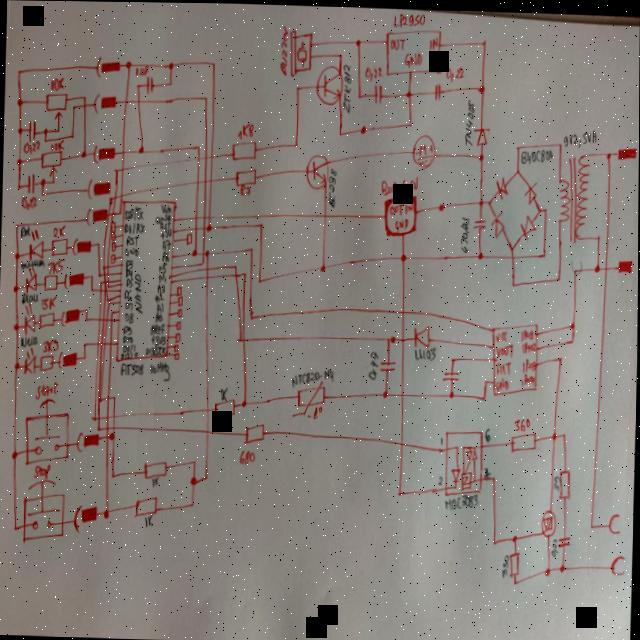capacitor: (24, 168, 35, 194), (141, 74, 156, 92), (378, 355, 395, 370), (440, 367, 459, 379), (26, 117, 35, 139), (372, 80, 381, 102), (556, 532, 570, 546), (432, 79, 441, 99), (472, 216, 485, 227)
crossover: (202, 424, 209, 433), (601, 261, 608, 269), (509, 250, 515, 259), (203, 403, 209, 411), (399, 388, 405, 396), (191, 223, 197, 231), (122, 95, 128, 103), (134, 95, 140, 103), (98, 338, 103, 346), (119, 146, 124, 154), (398, 437, 403, 445), (195, 152, 200, 160), (201, 175, 206, 183), (192, 212, 197, 220), (206, 211, 211, 219), (203, 272, 209, 278), (400, 305, 404, 313), (194, 176, 198, 184), (202, 151, 206, 159), (209, 151, 213, 159), (207, 174, 211, 182), (201, 211, 205, 219), (201, 222, 205, 230), (241, 334, 245, 342), (101, 339, 106, 345), (399, 333, 404, 339), (81, 101, 86, 107), (95, 337, 98, 346), (104, 432, 108, 438), (96, 413, 100, 419), (108, 338, 112, 344), (108, 315, 112, 321), (103, 315, 107, 321), (96, 314, 100, 320), (200, 248, 204, 254), (204, 263, 208, 269), (110, 209, 114, 215), (112, 193, 116, 199), (322, 210, 326, 216), (232, 270, 236, 276), (119, 164, 123, 170), (105, 394, 109, 399), (105, 413, 109, 418), (111, 411, 115, 416), (104, 423, 108, 428), (111, 423, 115, 428), (98, 285, 102, 290), (105, 270, 109, 275), (118, 191, 122, 196), (101, 314, 104, 320), (106, 210, 109, 216), (105, 262, 108, 267), (106, 277, 108, 282), (102, 270, 104, 274), (103, 286, 105, 290), (103, 278, 105, 281)
diode: (27, 226, 44, 260), (21, 301, 36, 333), (519, 211, 535, 237), (22, 344, 36, 373), (490, 208, 505, 234), (412, 322, 428, 346), (522, 176, 537, 201), (23, 263, 36, 291), (493, 172, 508, 196), (473, 124, 489, 144)
junction: (385, 330, 395, 341), (123, 56, 131, 68), (318, 260, 326, 271), (403, 86, 411, 96), (476, 81, 484, 91), (399, 249, 406, 260), (549, 427, 556, 437), (592, 260, 599, 270), (15, 95, 22, 105), (189, 473, 196, 483), (12, 359, 19, 369), (136, 143, 143, 153), (9, 448, 16, 458), (15, 154, 22, 164), (166, 58, 172, 69), (79, 147, 85, 158), (38, 174, 44, 185), (103, 506, 109, 517), (132, 80, 140, 88), (568, 318, 575, 327), (510, 530, 516, 540), (16, 123, 22, 133), (108, 429, 114, 439), (11, 282, 17, 292), (381, 386, 387, 396), (544, 563, 550, 573), (604, 146, 610, 156), (558, 560, 564, 570), (570, 263, 577, 271), (12, 250, 19, 258), (240, 395, 246, 404), (447, 387, 453, 396), (476, 195, 482, 204), (12, 321, 18, 330), (354, 36, 360, 45), (190, 247, 196, 256), (476, 249, 482, 258), (540, 247, 546, 256), (438, 200, 444, 209), (359, 122, 365, 131), (166, 77, 172, 85), (336, 126, 342, 134), (508, 240, 514, 248), (41, 125, 47, 133), (477, 151, 483, 159), (293, 82, 299, 90), (292, 138, 298, 146), (205, 222, 211, 230), (236, 333, 242, 341), (568, 334, 574, 342), (560, 427, 566, 435), (257, 218, 262, 226), (110, 469, 115, 477), (68, 130, 73, 138), (594, 229, 599, 237), (190, 455, 195, 463), (15, 65, 20, 73), (209, 57, 214, 65), (15, 180, 20, 188), (480, 36, 485, 44), (588, 518, 593, 526), (12, 522, 17, 530), (406, 117, 411, 125), (203, 247, 208, 255), (514, 163, 518, 172), (557, 136, 561, 145), (90, 413, 96, 419), (510, 277, 514, 285), (194, 141, 198, 149), (248, 310, 252, 318), (491, 472, 495, 480), (81, 339, 86, 345), (355, 90, 360, 96), (201, 93, 206, 99), (81, 93, 86, 99), (203, 472, 208, 478), (336, 50, 341, 56), (555, 271, 559, 278), (556, 352, 560, 359), (81, 352, 85, 359), (512, 576, 516, 583), (39, 189, 43, 196), (199, 258, 204, 263), (396, 487, 400, 493), (189, 499, 193, 505), (70, 103, 74, 109), (542, 203, 546, 209), (491, 535, 495, 541), (482, 375, 486, 381), (256, 275, 260, 281), (88, 284, 92, 290), (248, 243, 252, 249), (113, 164, 117, 170), (88, 271, 92, 277), (241, 268, 245, 274), (13, 221, 17, 227), (96, 270, 100, 276), (108, 307, 112, 313), (101, 261, 105, 267), (117, 207, 121, 213), (107, 194, 111, 200), (55, 125, 59, 131), (514, 142, 518, 148), (486, 197, 490, 203), (97, 394, 101, 400), (481, 393, 485, 398), (449, 354, 453, 359), (231, 261, 235, 266), (83, 315, 87, 320), (83, 306, 87, 311), (96, 424, 100, 429), (111, 393, 115, 398), (105, 295, 109, 300), (98, 278, 102, 283), (41, 135, 45, 140), (50, 178, 54, 183), (105, 282, 109, 286), (106, 299, 109, 304), (537, 204, 540, 209), (96, 240, 99, 244)
resistor: (42, 90, 67, 120), (37, 147, 62, 175), (509, 428, 536, 449), (230, 137, 255, 159), (141, 457, 167, 478), (134, 493, 157, 516), (242, 419, 264, 443), (233, 164, 256, 186), (212, 395, 234, 417), (557, 464, 570, 496), (50, 235, 68, 255), (37, 309, 54, 328), (41, 271, 57, 290), (508, 547, 519, 574), (37, 352, 53, 370)
switch: (21, 394, 69, 465), (19, 476, 65, 546)
terminal: (609, 551, 625, 573), (606, 509, 621, 531), (614, 143, 636, 158), (615, 255, 632, 270)
text: (288, 364, 332, 383), (518, 142, 552, 163), (443, 489, 478, 508), (277, 23, 289, 75), (390, 9, 424, 26), (340, 58, 351, 110), (463, 95, 473, 144), (325, 162, 336, 204), (148, 358, 169, 379), (34, 379, 57, 398), (458, 211, 469, 249), (132, 271, 142, 312), (119, 359, 143, 375), (235, 118, 253, 138), (412, 343, 435, 358), (400, 171, 417, 191), (367, 347, 378, 377), (19, 256, 44, 269), (124, 203, 144, 219), (46, 256, 64, 273), (236, 446, 254, 462), (444, 62, 462, 78), (363, 62, 381, 78), (402, 48, 420, 64), (32, 461, 50, 477), (379, 177, 397, 193), (143, 342, 166, 354), (123, 220, 146, 232), (580, 124, 596, 141), (513, 413, 530, 429), (40, 293, 56, 309), (21, 138, 39, 152), (493, 340, 511, 354), (20, 193, 36, 208), (305, 402, 321, 417), (41, 337, 58, 351), (48, 74, 63, 89), (561, 128, 576, 143), (133, 62, 149, 76), (20, 291, 38, 303), (388, 33, 402, 48), (394, 215, 408, 230), (495, 356, 509, 371), (19, 334, 36, 346), (51, 222, 65, 236), (387, 199, 401, 213), (154, 210, 170, 222), (237, 179, 249, 195), (149, 320, 165, 332), (125, 232, 139, 245), (518, 370, 534, 381), (149, 332, 165, 343), (520, 356, 534, 368), (49, 137, 63, 149), (501, 550, 508, 574), (494, 325, 506, 339), (426, 33, 438, 47), (143, 511, 154, 526), (122, 244, 137, 255), (119, 349, 137, 358), (159, 200, 171, 213), (521, 339, 535, 350), (19, 222, 30, 236), (549, 535, 557, 554), (120, 341, 135, 351), (159, 226, 171, 238), (495, 375, 507, 387), (482, 424, 491, 440), (520, 327, 534, 337), (123, 309, 133, 322), (219, 384, 227, 399), (161, 237, 171, 249), (156, 260, 166, 272), (553, 471, 560, 488), (150, 472, 158, 486), (121, 322, 131, 333), (154, 290, 164, 301), (158, 219, 170, 228), (121, 333, 132, 342), (124, 257, 133, 268), (123, 287, 131, 299), (155, 299, 163, 311), (155, 281, 164, 291), (124, 299, 132, 310), (124, 275, 132, 286), (160, 249, 168, 260), (157, 271, 165, 282), (403, 200, 411, 211), (483, 464, 489, 478), (124, 266, 132, 276), (154, 311, 162, 320), (436, 471, 442, 481), (438, 433, 443, 443)
transformer: (553, 148, 590, 241)
transistor: (313, 59, 343, 106), (303, 151, 328, 187)
